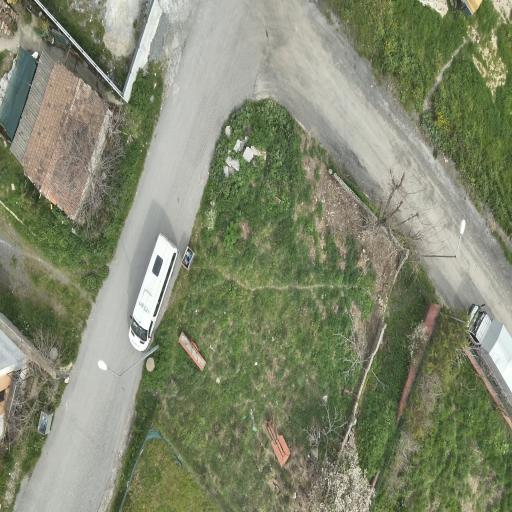car: (129, 235, 178, 351), (468, 304, 511, 401)
